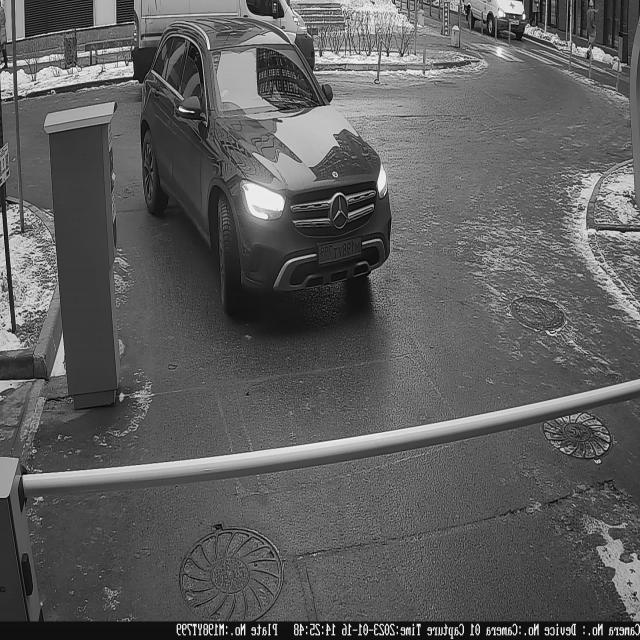car-plate-numbers: (315, 234, 366, 268)
